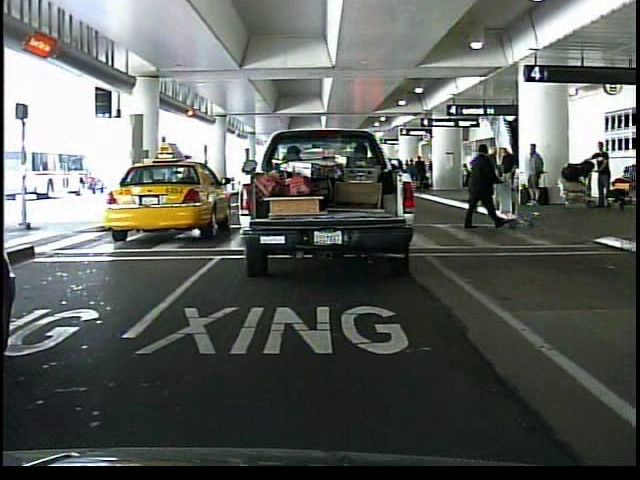person: (462, 143, 503, 234), (478, 146, 499, 221), (592, 139, 614, 209)
